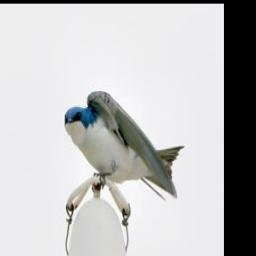Swallow: (63, 90, 186, 204)
